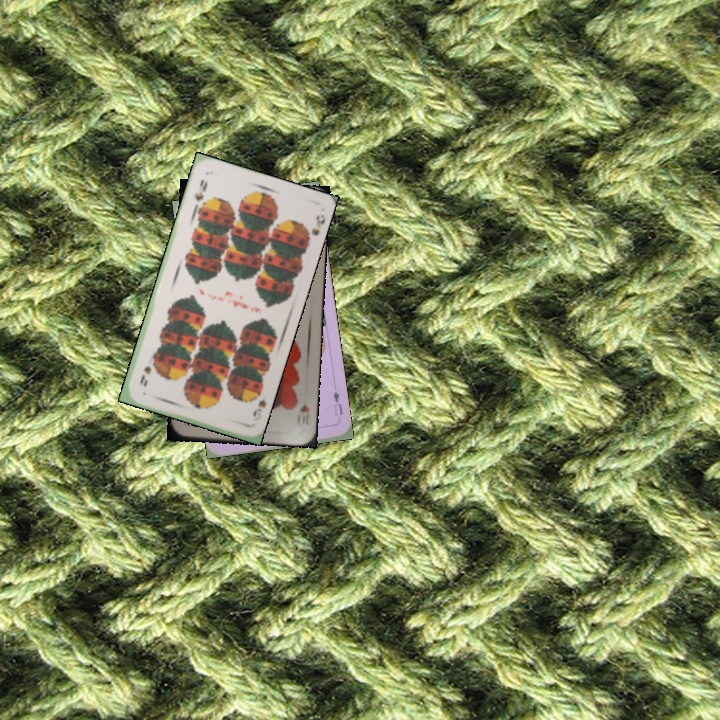EU: (329, 387, 345, 419)
H10: (296, 400, 312, 428)
S9: (190, 175, 210, 211), (249, 386, 269, 419)
